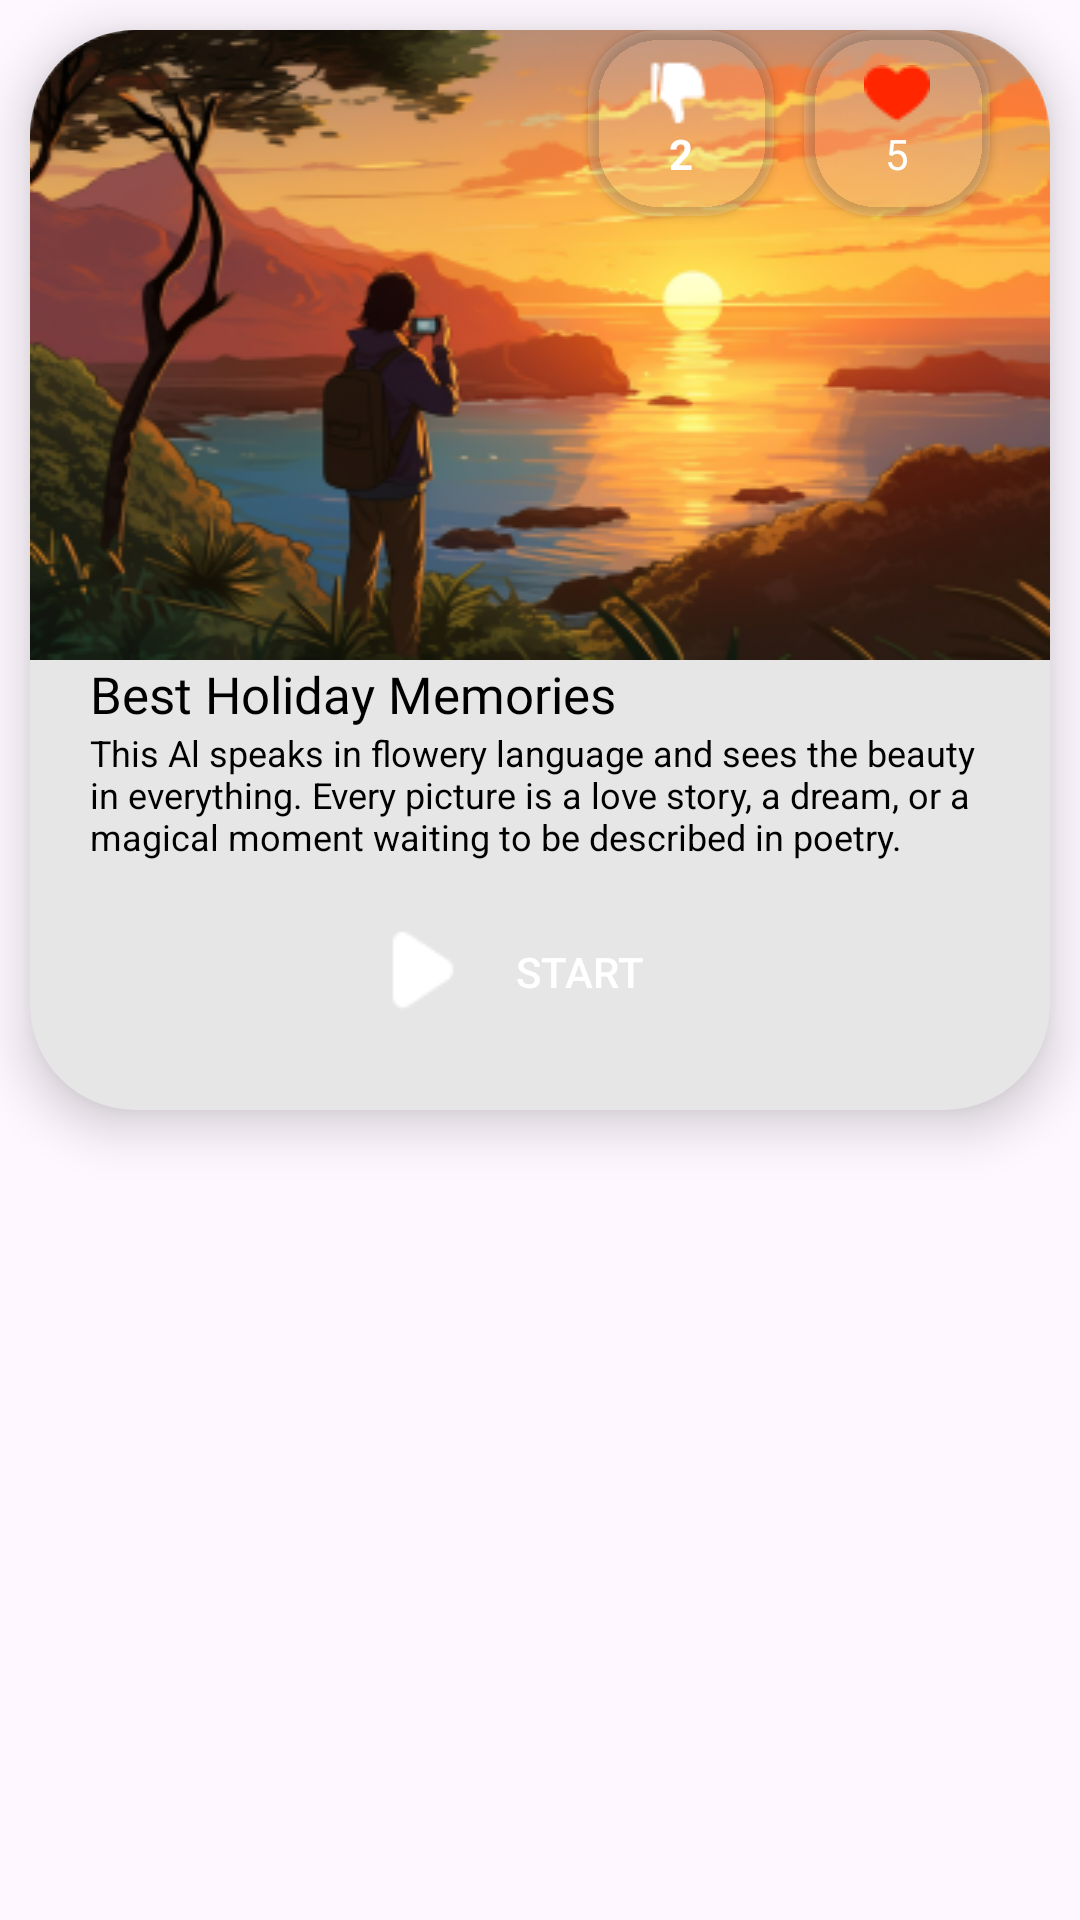

Screen size 1080×1920. Icon name, then its center in pixels as point (x, y):
dislike: point (681, 93)
love: point (897, 93)
